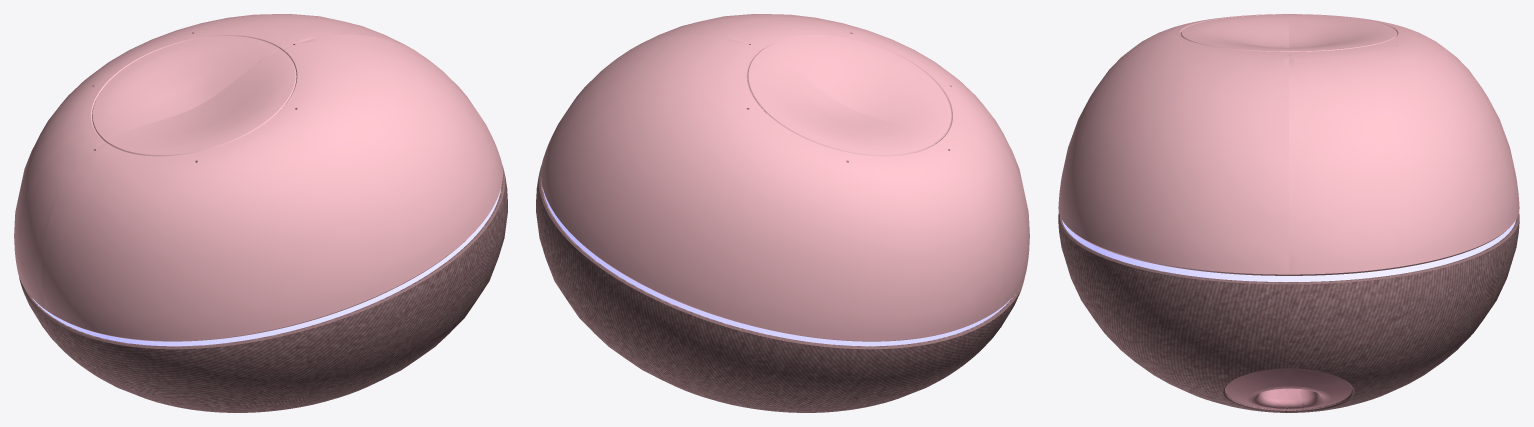
File: pebble_blender.gltf
The picture shows the model from 3 angles, left to right: view 1: azimuth 30°, elevation 25°; view 2: azimuth 150°, elevation 25°; view 3: azimuth 270°, elevation 25°; orthographic projection. The views are drawn at different scales.
Parts seen in each view (by area): view 1: pebble; view 2: pebble; view 3: pebble.
Part boxes in pixels (x1,y1,x2,y2): pebble: [14, 14, 507, 412]; pebble: [536, 14, 1029, 412]; pebble: [1058, 14, 1519, 412].
Bounding box in the file's own units: 0.1594 × 0.1083 × 0.1405.
4 materials, 1 textured.
